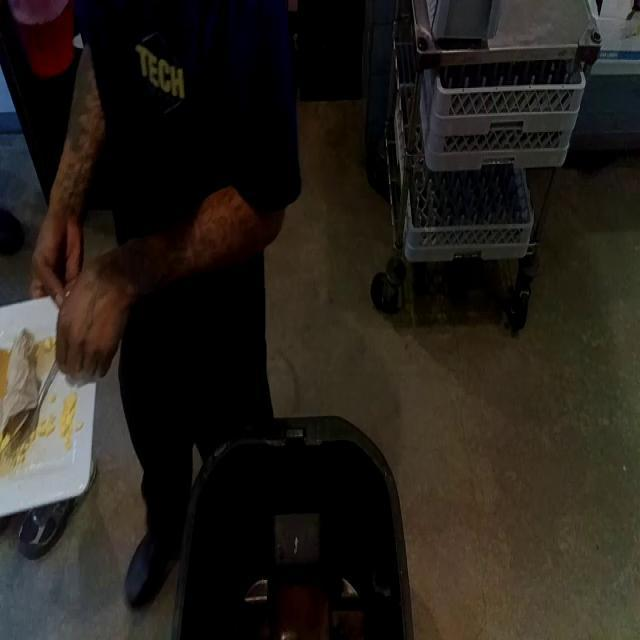Anorganik: (0, 293, 104, 497), (33, 350, 63, 418)
Organik: (0, 392, 92, 451)
